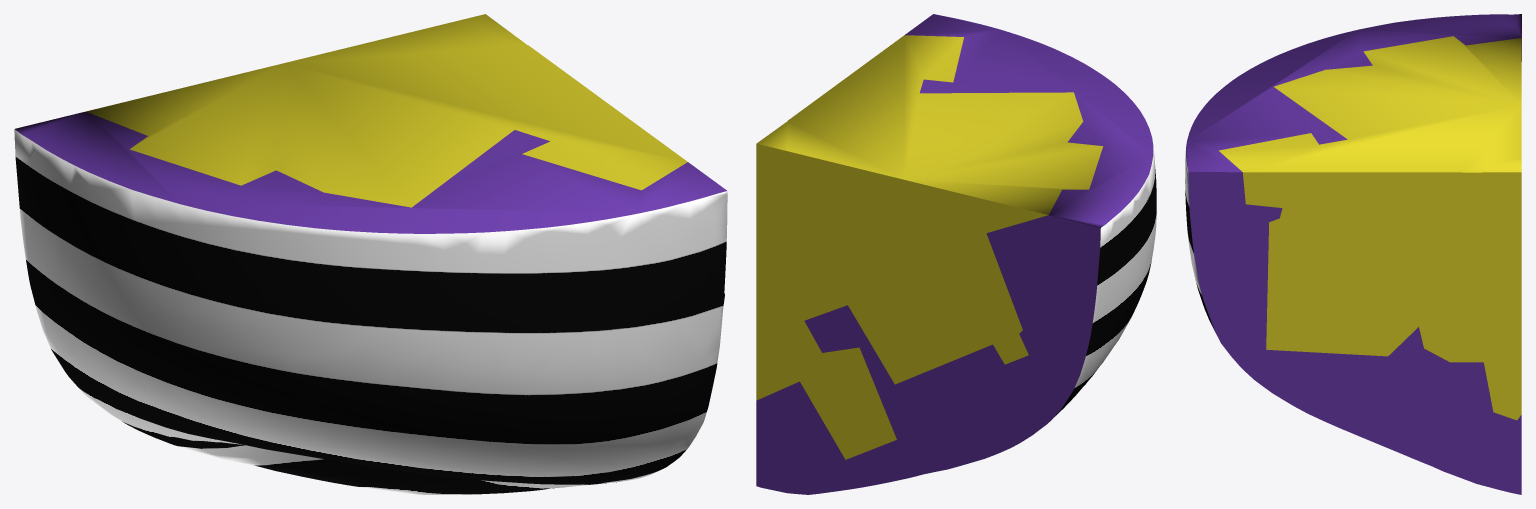
File: SM_Apple_Behind_RB.fbx
3 views of the same model, side by side, from view 1: azimuth 30°, elevation 25°; view 2: azimuth 150°, elevation 25°; view 3: azimuth 270°, elevation 25° (orthographic). The views are drawn at different scales.
Visible parts, largest first — view 1: 立方体.0007; view 2: 立方体.0007; view 3: 立方体.0007.
Part boxes in pixels (bbox=[...]): 立方体.0007: bbox=[14, 14, 727, 494]; 立方体.0007: bbox=[756, 14, 1156, 494]; 立方体.0007: bbox=[1185, 14, 1521, 494].
Bounding box in the file's own units: 118 × 112 × 106.
